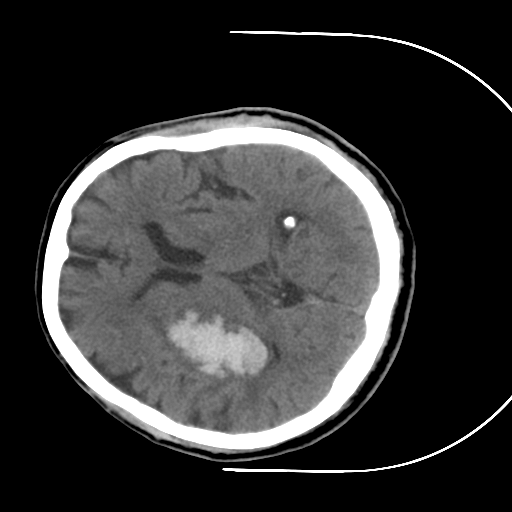a: (130, 291, 288, 410)
